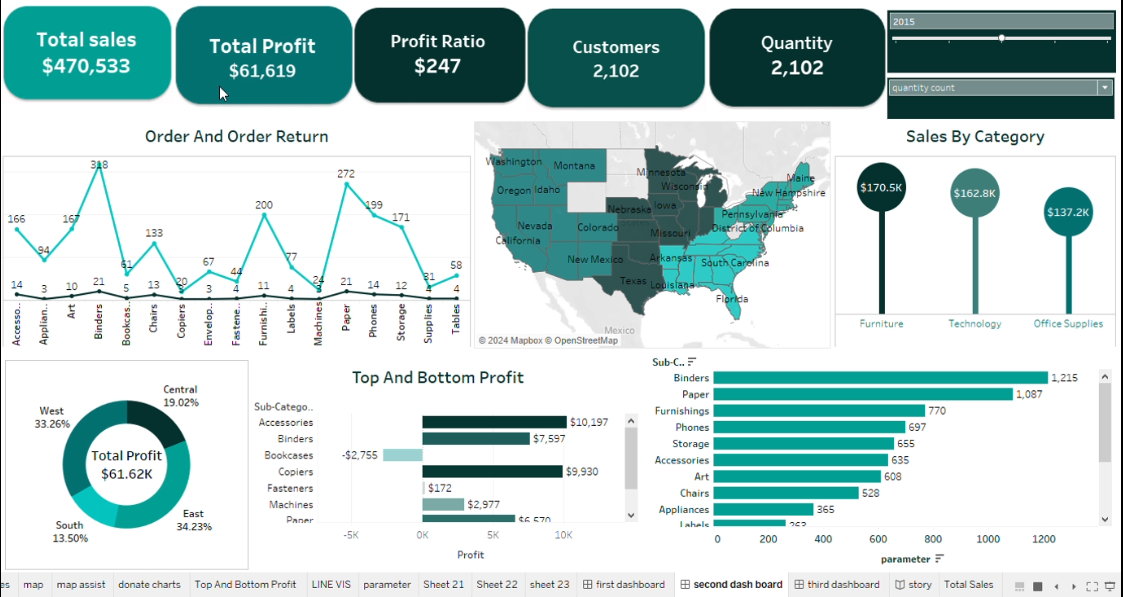

What the dashboard file says about the page in this screenshot:
{"tool":"tableau","page":{"name":"second dash board","canvas":[1000,1000],"units":"permille","ordinal":1},"visuals":[{"type":"worksheet","title":"Total Sales","mark":"Automatic","box":[2.6,1.8,147.2,193.8]},{"type":"image","param":"C:/Users/Administrator/Downloads/Rectangle 42.png","box":[0.9,3.6,153.2,188.4]},{"type":"worksheet","title":"Profit Ratio","mark":"Automatic","box":[315.2,7.2,152.4,183]},{"type":"image","param":"C:/Users/Administrator/Downloads/Rectangle 44.png","box":[154.1,10.9,161,183]},{"type":"worksheet","title":"total profit","mark":"Automatic","box":[155.8,10.9,155.8,184.8]},{"type":"image","param":"C:/Users/Administrator/Downloads/Rectangle 46.png","box":[314.3,10.9,155.8,184.8]},{"type":"worksheet","title":" count Quantity","mark":"Automatic","box":[632.9,10.9,155.8,183]},{"type":"image","param":"C:/Users/Administrator/Downloads/Rectangle 46.png","box":[631.2,12.7,160.2,188.4]},{"type":"worksheet","title":"count Customer No","mark":"Automatic","box":[472.7,14.5,153.2,183]},{"type":"image","param":"C:/Users/Administrator/Downloads/Rectangle 45.png","box":[468.4,16.3,161.9,186.6]},{"type":"filter","title":" count Quantity","param":"[federated.0lmxfgi04221vz131uro409p8596].[yr:Order Date:ok]","box":[791.3,21.7,204.3,108.7]},{"type":"parameter","param":"[Parameters].[BOTTOM-N  (copy)]","box":[790.3,137.7,204.5,74.3]},{"type":"worksheet","title":"e Lollipop","mark":"Automatic","rows":["Sales","Sales"],"cols":["Category"],"box":[743.7,212,252.8,398.6]},{"type":"worksheet","title":"LINE VIS","mark":"Line","rows":["Order ID","Order ID (Returns)"],"cols":["Sub-Category"],"box":[1.7,213.8,418.1,394.9]},{"type":"worksheet","title":"map ","mark":"Multipolygon","box":[421.5,213.8,320,398.6]},{"type":"worksheet","title":"parameter","mark":"Automatic","rows":["Sub-Category"],"cols":["Calculation_724235164480815106"],"box":[577.2,615.9,415.9,384.1]},{"type":"worksheet","title":"donate charts","mark":"Pie","rows":["Calculation_741968087583784972","Calculation_741968087583784972"],"box":[2.6,628.6,219.2,367.8]},{"type":"worksheet","title":"Top And Bottom Profit","mark":"Automatic","rows":["Sub-Category"],"cols":["Profit"],"box":[223.5,632.2,346,360.5]}]}

Visuals, with their boxes on the dashboard's canvas, which has no fixed pixel size, in thousandths of its width and height (x1, y1, x2, y2). These are canvas units, not pixel positions in the 1123x597 screenshot, which may show the page scaled, cropped or inside an application window:
"Total Sales" worksheet: [3, 2, 150, 196]
image: [1, 4, 154, 192]
"Profit Ratio" worksheet: [315, 7, 468, 190]
image: [154, 11, 315, 194]
"total profit" worksheet: [156, 11, 312, 196]
image: [314, 11, 470, 196]
" count Quantity" worksheet: [633, 11, 789, 194]
image: [631, 13, 791, 201]
"count Customer No" worksheet: [473, 14, 626, 198]
image: [468, 16, 630, 203]
" count Quantity" filter: [791, 22, 996, 130]
parameter: [790, 138, 995, 212]
"e Lollipop" worksheet: [744, 212, 996, 611]
"LINE VIS" worksheet (Line marks): [2, 214, 420, 609]
"map " worksheet (Multipolygon marks): [422, 214, 742, 612]
"parameter" worksheet: [577, 616, 993, 1000]
"donate charts" worksheet (Pie marks): [3, 629, 222, 996]
"Top And Bottom Profit" worksheet: [224, 632, 570, 993]
